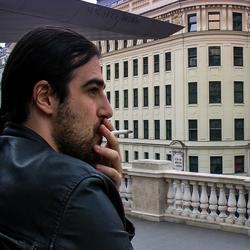smoking: (95, 124, 135, 139)
